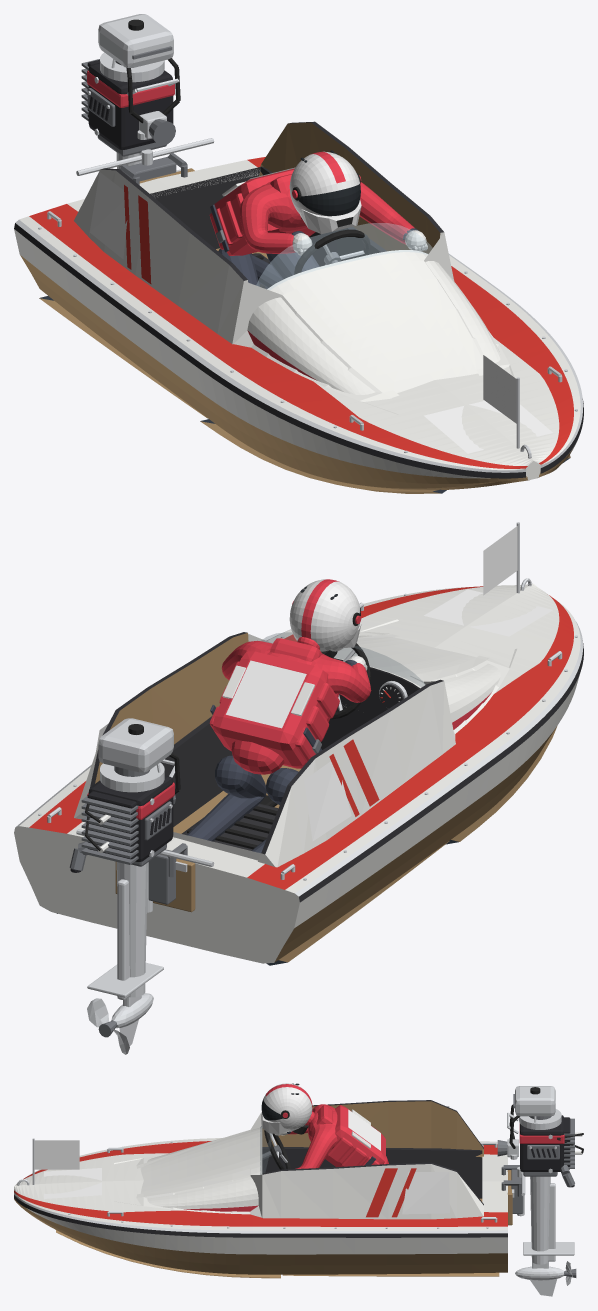
The model's file is boat.fbx.
3 renders of one model, top to bottom at view 1: azimuth 30°, elevation 25°; view 2: azimuth 150°, elevation 25°; view 3: azimuth 270°, elevation 25°, orthographic. The views are drawn at different scales.
Visible parts, largest first — view 1: Cowl__HullWhite__0_0_00, Hull__Deck__0_0_00, Hull__MotorRed__0_0_00, Hull__Plywood__0_0_00, Hull__HullWhite__0_0_00, RacerUpper__Suit__0_0_00, Motor__Metal__0_0_00, Cowl__Plywood__0_0_00, Glass__Glass__0_0_00, Hull__Trim__0_0_00, Hull__Cockpit__0_0_00, Plates__NumberPlate__0_0_00 (+14 smaller); view 2: Hull__HullWhite__0_0_00, Cowl__HullWhite__0_0_00, Hull__Deck__0_0_00, Hull__MotorRed__0_0_00, Motor__Metal__0_0_00, RacerUpper__Suit__0_0_00, Hull__Plywood__0_0_00, Motor__MetalDark__0_0_00, Cowl__Plywood__0_0_00, Hull__Cockpit__0_0_00, Plates__NumberPlate__0_0_00, RacerLower__Pants__0_0_00 (+16 smaller); view 3: Cowl__HullWhite__0_0_00, Hull__Plywood__0_0_00, Hull__Deck__0_0_00, Hull__HullWhite__0_0_00, Motor__Metal__0_0_00, Hull__MotorRed__0_0_00, Cowl__Plywood__0_0_00, RacerUpper__Suit__0_0_00, Plates__NumberPlate__0_0_00, Hull__Cockpit__0_0_00, Hull__Trim__0_0_00, Motor__MetalDark__0_0_00 (+13 smaller).
Boxes of the visible parts, x1,y1,x2,y2 form: Cowl__HullWhite__0_0_00: (74,169,514,414); Hull__Deck__0_0_00: (19,160,580,470); Hull__MotorRed__0_0_00: (29,157,573,468); Hull__Plywood__0_0_00: (20,248,573,490); Hull__HullWhite__0_0_00: (14,229,577,479); RacerUpper__Suit__0_0_00: (209,168,414,255); Motor__Metal__0_0_00: (76,14,214,175); Cowl__Plywood__0_0_00: (259,122,440,253); Glass__Glass__0_0_00: (256,223,432,289); Hull__Trim__0_0_00: (14,166,583,478); Hull__Cockpit__0_0_00: (150,167,380,266); Plates__NumberPlate__0_0_00: (89,172,552,453); Hull__HullWhite__0_0_00: (14,673,580,963); Cowl__HullWhite__0_0_00: (74,619,516,867); Hull__Deck__0_0_00: (19,583,580,893); Hull__MotorRed__0_0_00: (29,586,573,889); Motor__Metal__0_0_00: (76,718,214,1054); RacerUpper__Suit__0_0_00: (209,637,371,774); Hull__Plywood__0_0_00: (173,728,555,962); Motor__MetalDark__0_0_00: (69,766,187,1037); Cowl__Plywood__0_0_00: (95,633,248,783); Hull__Cockpit__0_0_00: (160,702,382,826); Plates__NumberPlate__0_0_00: (95,589,552,841); RacerLower__Pants__0_0_00: (186,755,298,853); Cowl__HullWhite__0_0_00: (114,1111,483,1219); Hull__Plywood__0_0_00: (14,1198,507,1274); Hull__Deck__0_0_00: (14,1138,507,1230); Hull__HullWhite__0_0_00: (27,1208,507,1254); Motor__Metal__0_0_00: (507,1086,574,1296); Hull__MotorRed__0_0_00: (14,1141,507,1226); Cowl__Plywood__0_0_00: (262,1101,483,1157); RacerUpper__Suit__0_0_00: (288,1104,388,1168); Plates__NumberPlate__0_0_00: (44,1106,449,1214); Hull__Cockpit__0_0_00: (262,1148,482,1198); Hull__Trim__0_0_00: (14,1147,507,1237); Motor__MetalDark__0_0_00: (497,1094,576,1277).
Size of the model in its own units: 4.69 by 4.78 by 11.69.
